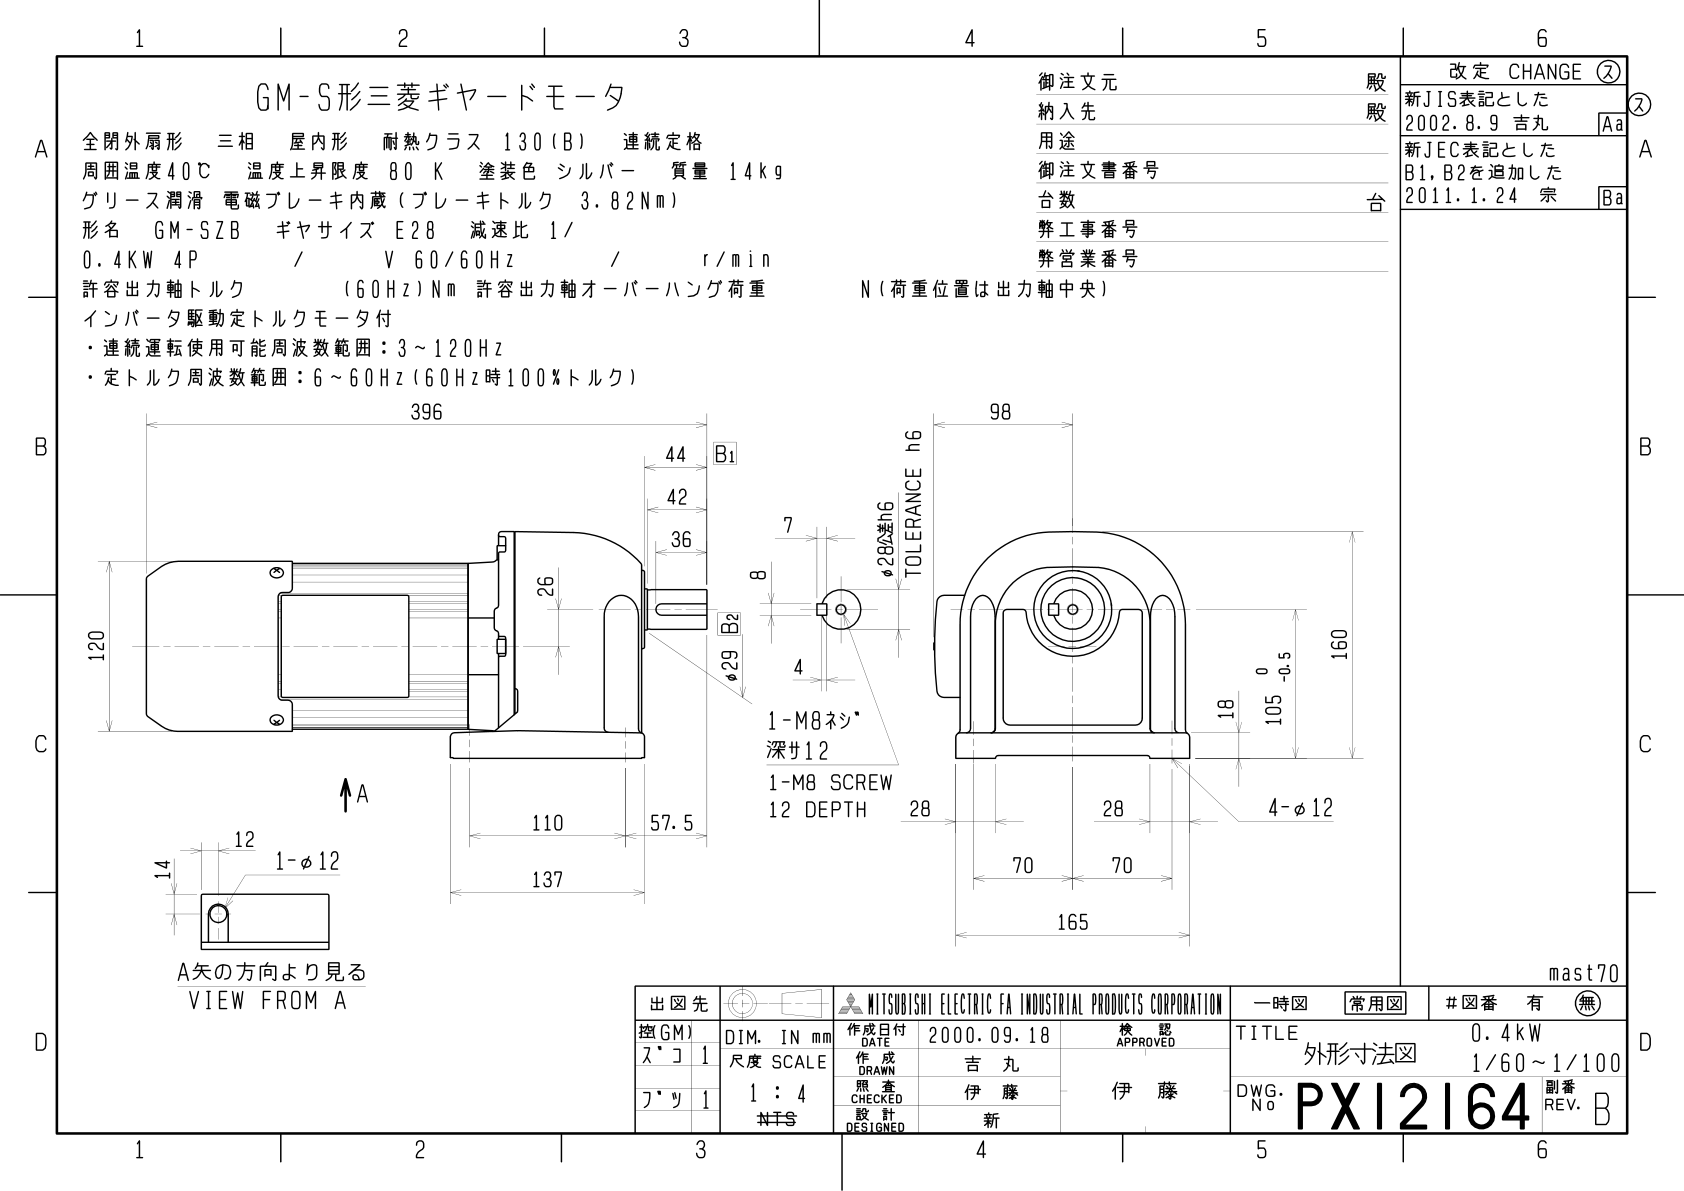GM_S_インバタ屋外＿三相_脚: (70, 391, 1383, 973)
